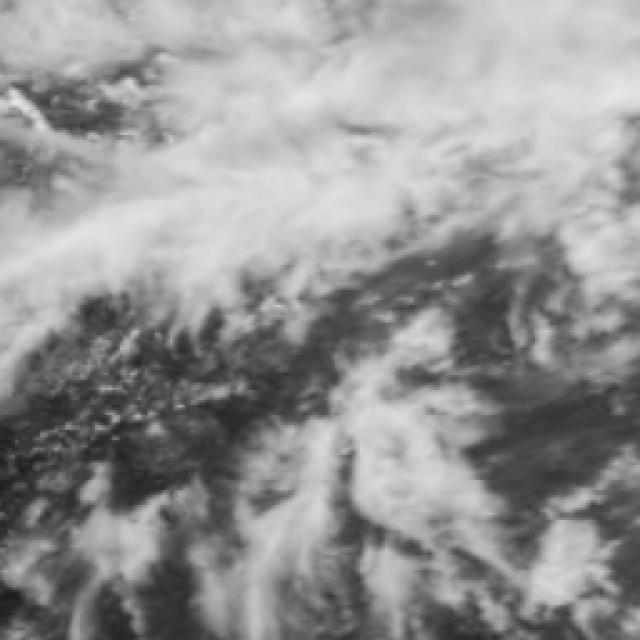CB: (383, 0, 640, 114), (234, 65, 330, 254)
